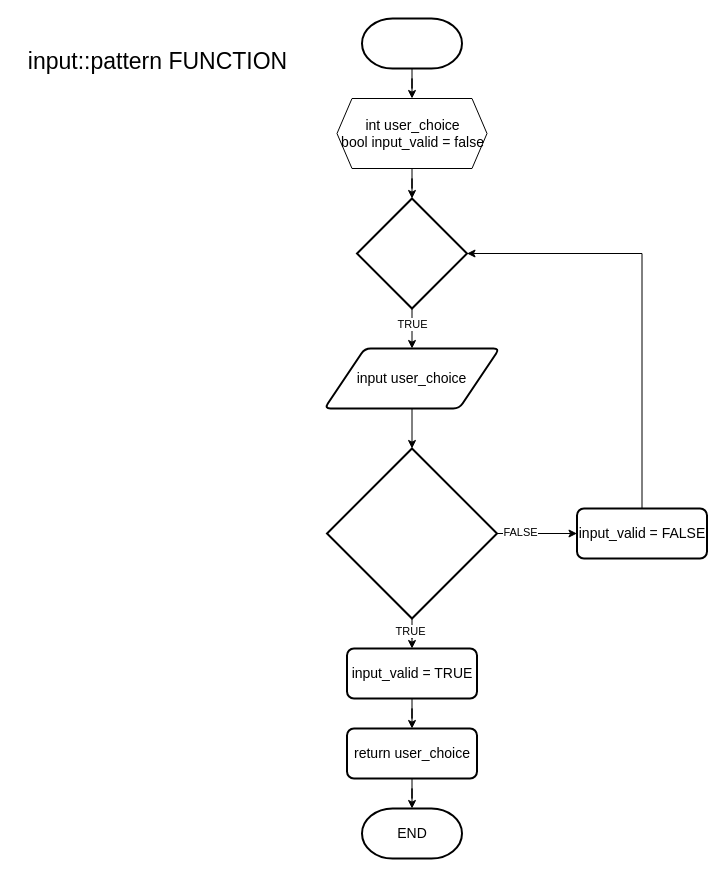
The diagram is 725 pixels wide and 876 high, and some of its shapes have lost their labels. Each missing label, with the box of its shape:
! input_valid IS TRUE ?: (356, 197, 468, 309)
START: (360, 17, 462, 69)
user_choice >= 1 && user_choice <= 5 || user_choice== 99 ?: (326, 447, 498, 619)
